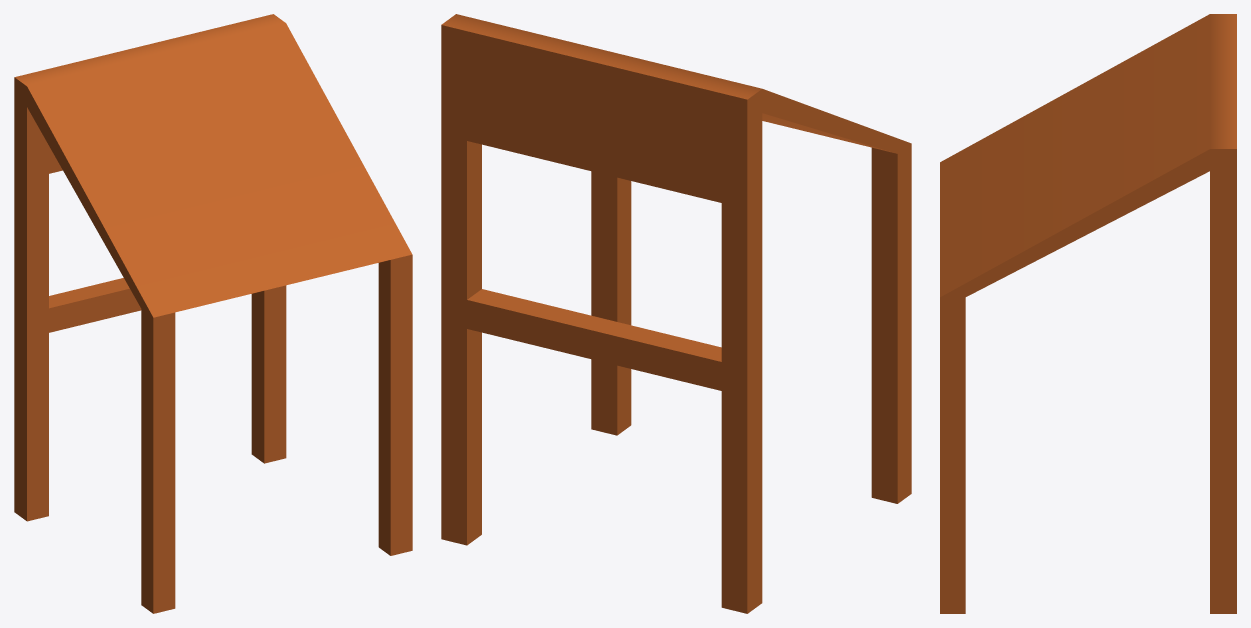
The picture shows the model from 3 angles, left to right: view 1: azimuth 30°, elevation 25°; view 2: azimuth 150°, elevation 25°; view 3: azimuth 270°, elevation 25°; orthographic projection. The views are drawn at different scales.
Visible parts, largest first — view 1: pCube15; view 2: pCube15; view 3: pCube15.
Part boxes in pixels (x1=…): pCube15: x1=14, y1=14, x2=412, y2=613; pCube15: x1=441, y1=14, x2=911, y2=613; pCube15: x1=940, y1=14, x2=1236, y2=613.
Bounding box in the file's own units: 59.2 × 95 × 55.
